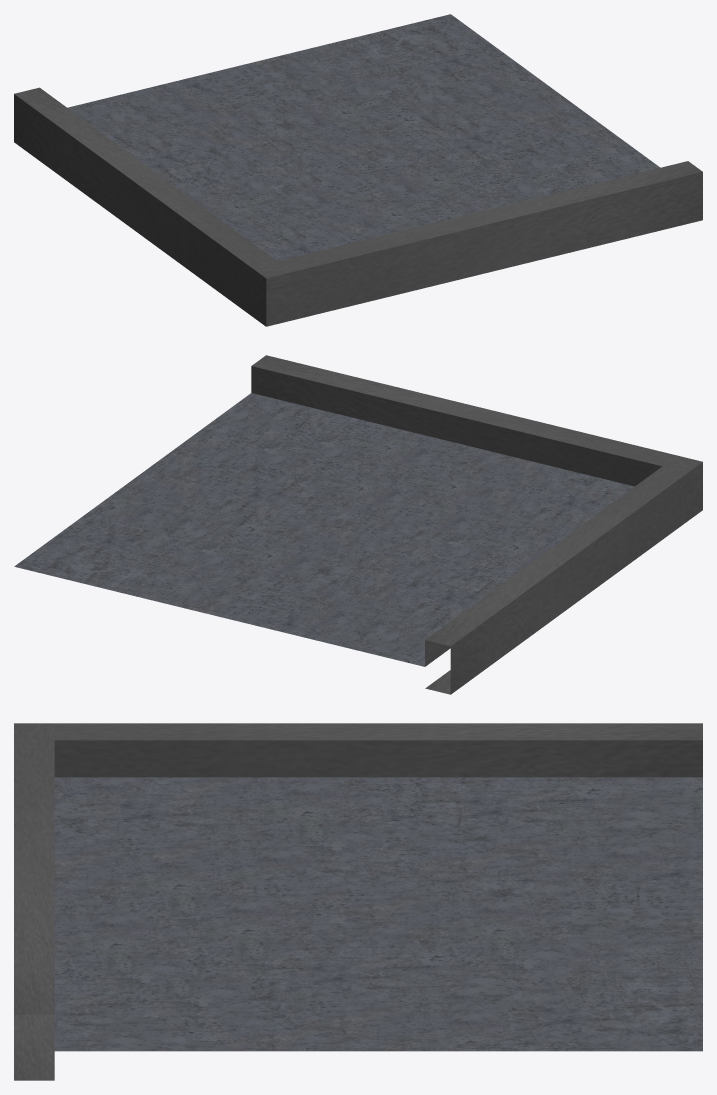
Rendered from roof1.FBX.
3 renders of one model, top to bottom at view 1: azimuth 30°, elevation 25°; view 2: azimuth 150°, elevation 25°; view 3: azimuth 270°, elevation 25°, orthographic. The views are drawn at different scales.
Parts seen in each view (by area): view 1: roof1; view 2: roof1; view 3: roof1.
Boxes of the visible parts, x1,y1,x2,y2 form: roof1: (14,14,702,326); roof1: (14,355,702,694); roof1: (14,723,702,1080).
Bounding box in the file's own units: 42.5 × 4.5 × 42.5.
